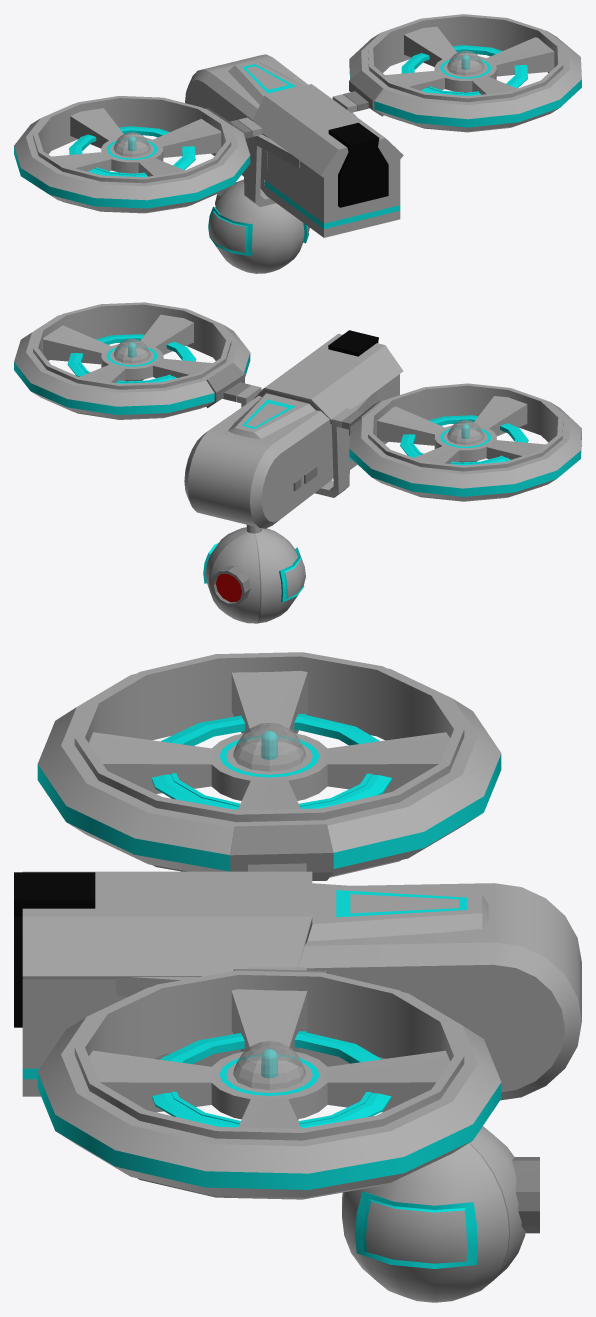
The model's file is Ennemi_drone.fbx.
The picture shows the model from 3 angles, top to bottom: view 1: azimuth 30°, elevation 25°; view 2: azimuth 150°, elevation 25°; view 3: azimuth 270°, elevation 25°; orthographic projection. The views are drawn at different scales.
Visible parts, largest first — view 1: corps, couille; view 2: corps, couille, oeil_vision; view 3: corps, couille, oeil_vision.
Part boxes in pixels (<box>): corps: <box>14,14,581,237</box>; couille: <box>208,179,309,273</box>; corps: <box>14,302,581,528</box>; couille: <box>203,525,305,623</box>; oeil_vision: <box>211,566,250,606</box>; corps: <box>14,652,581,1199</box>; couille: <box>342,1126,525,1302</box>; oeil_vision: <box>512,1157,539,1233</box>.
Size of the model in its own units: 2.05 by 0.7574 by 0.9596.
